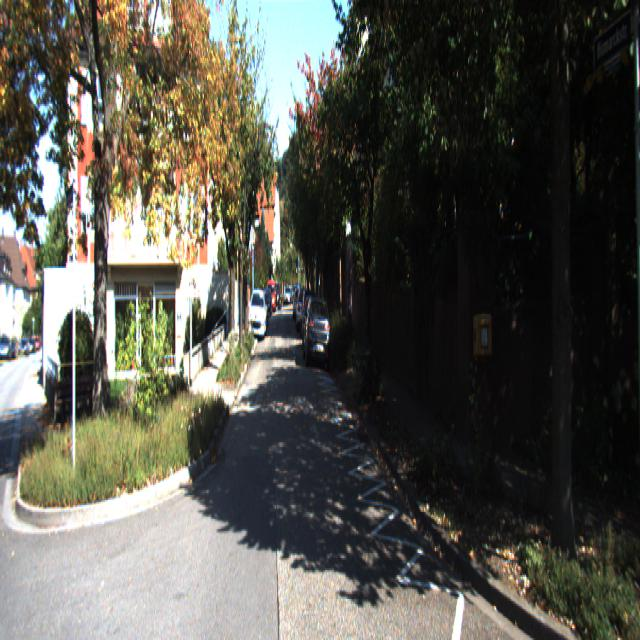Car: (302, 294, 331, 374), (248, 288, 267, 343)
